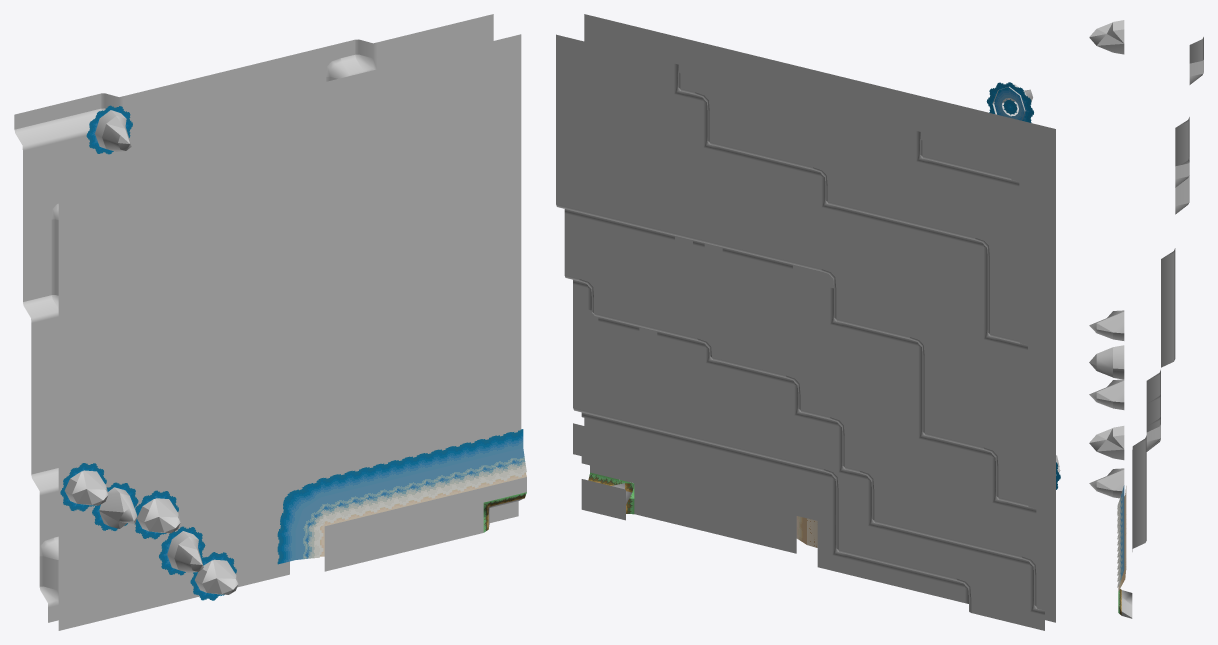
Rendered from Asteria_28_30.obj.
The picture shows the model from 3 angles, left to right: view 1: azimuth 30°, elevation 25°; view 2: azimuth 150°, elevation 25°; view 3: azimuth 270°, elevation 25°; orthographic projection. The views are drawn at different scales.
Parts seen in each view (by area): view 1: map; view 2: map; view 3: map.
Part boxes in pixels (left/top/right/bottom): map: left=14, top=14, right=526, bottom=630; map: left=556, top=14, right=1060, bottom=630; map: left=1089, top=20, right=1203, bottom=618.
Bounding box in the file's own units: 32.11 × 34.41 × 8.04.
